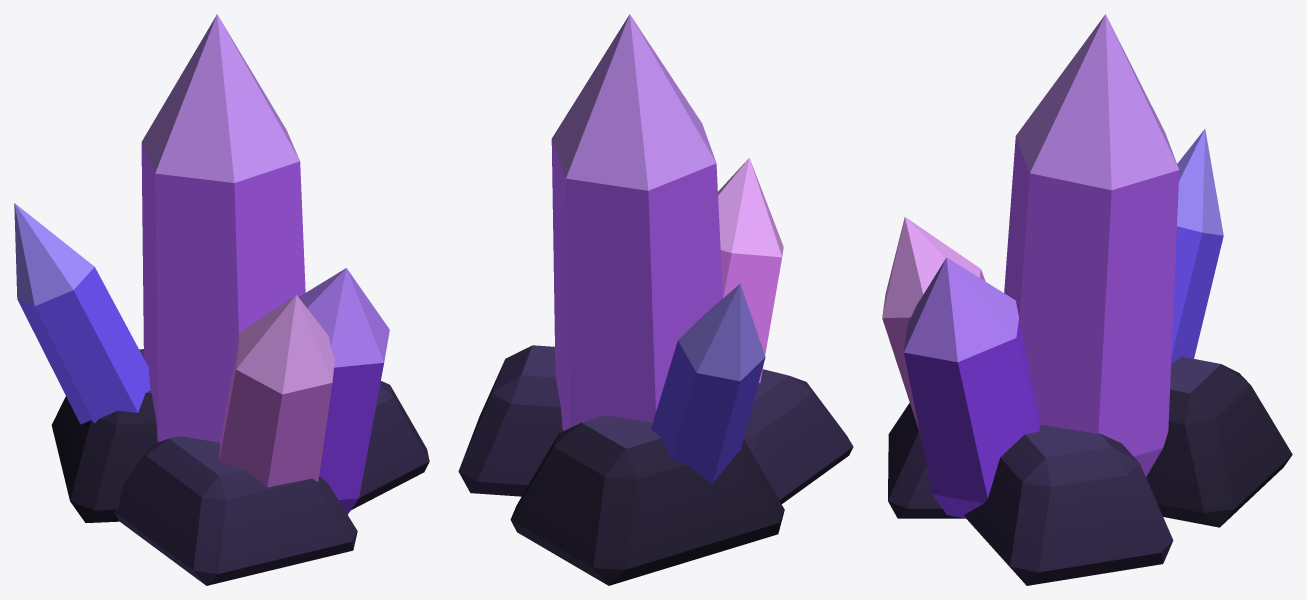
Rendered from void_crystal_1.glb.
3 renders of one model, left to right at view 1: azimuth 30°, elevation 25°; view 2: azimuth 150°, elevation 25°; view 3: azimuth 270°, elevation 25°, orthographic. The views are drawn at different scales.
Parts seen in each view (by area): view 1: Glow, Body; view 2: Glow, Body; view 3: Glow, Body.
Boxes of the visible parts, x1=… form: Glow: x1=14, y1=14, x2=389, y2=514; Body: x1=51, y1=349, x2=429, y2=585; Glow: x1=551, y1=14, x2=783, y2=483; Body: x1=458, y1=345, x2=853, y2=585; Glow: x1=882, y1=14, x2=1223, y2=518; Body: x1=888, y1=356, x2=1292, y2=585.
Bounding box in the file's own units: 0.9324 × 1.26 × 0.9618.
